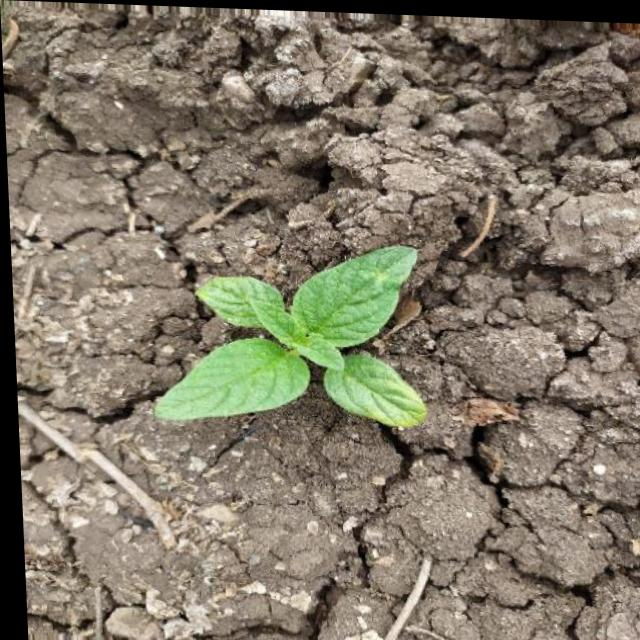crop: (141, 184, 433, 464)
